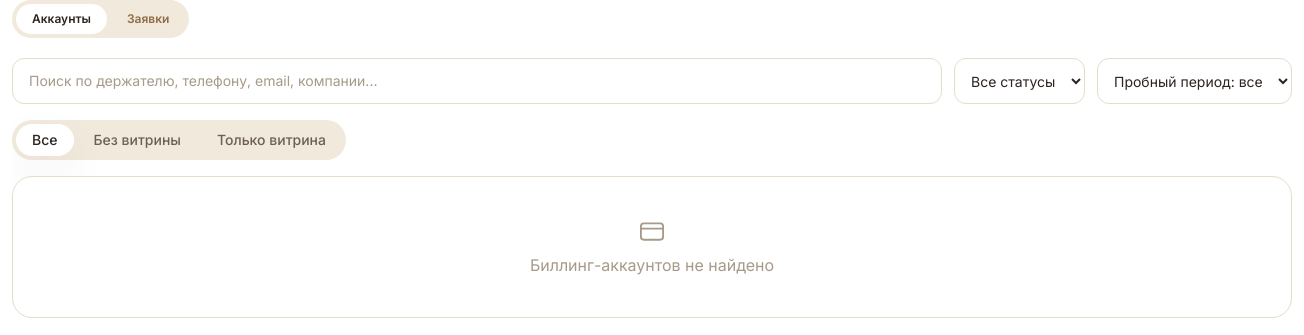
Scenario: BillingAccountsAdminTab — retiredOptionsNotice in the requests queue (cycle 19) › marks a retired line struck through and shows the notice in the queue card
Click the button "Заявки" at (148, 19), box [111, 4, 185, 34]
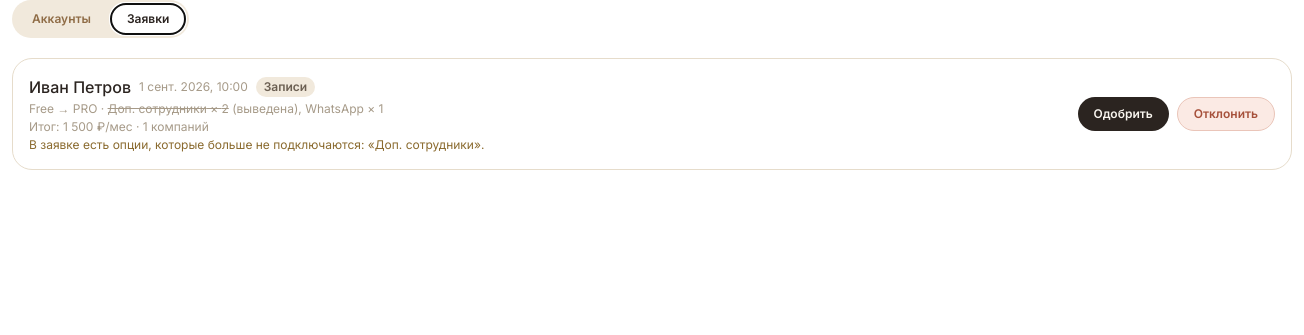
Expected: the text "В заявке есть опции, которые больше не подключаются: «Доп. сотрудники»." is shown, [29, 137, 484, 153]
Expected: the text "Доп. сотрудники × 2 (выведена)" is shown, [108, 101, 298, 116]
